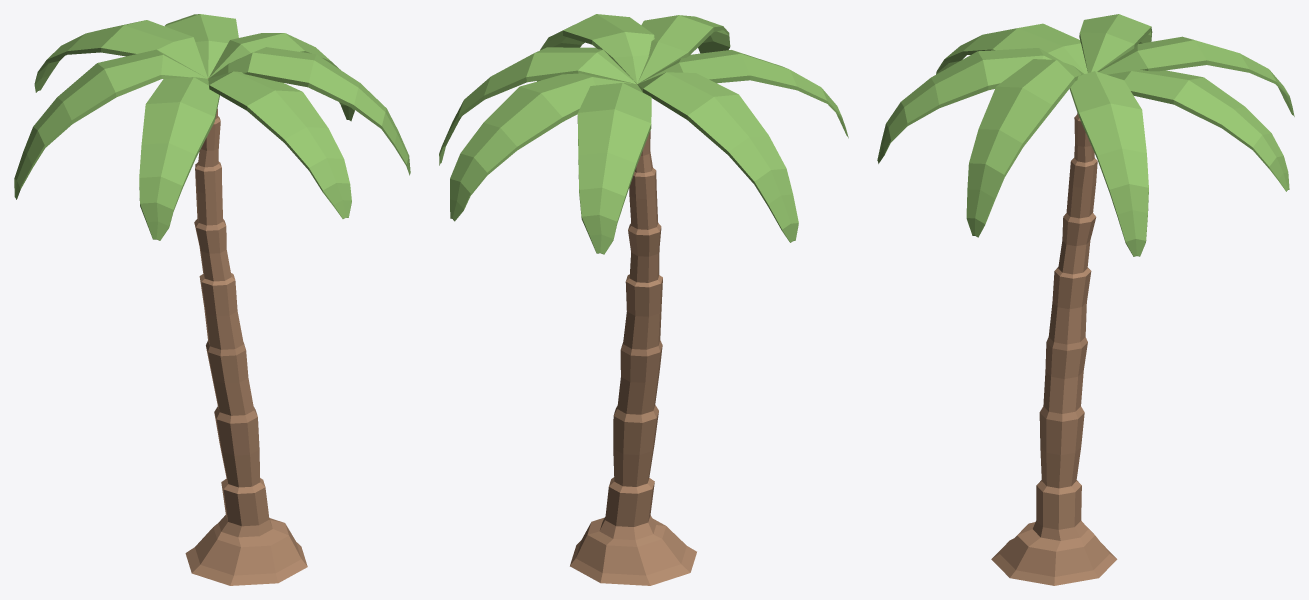
The model's file is PalmTree1.fbx.
3 renders of one model, left to right at view 1: azimuth 30°, elevation 25°; view 2: azimuth 150°, elevation 25°; view 3: azimuth 270°, elevation 25°, orthographic. The views are drawn at different scales.
Visible parts, largest first — view 1: PalmTree1; view 2: PalmTree1; view 3: PalmTree1.
Part boxes in pixels (x1,y1,x2,y2): PalmTree1: [14, 14, 410, 585]; PalmTree1: [439, 14, 848, 585]; PalmTree1: [877, 14, 1294, 585].
Bounding box in the file's own units: 400 × 572 × 430.
